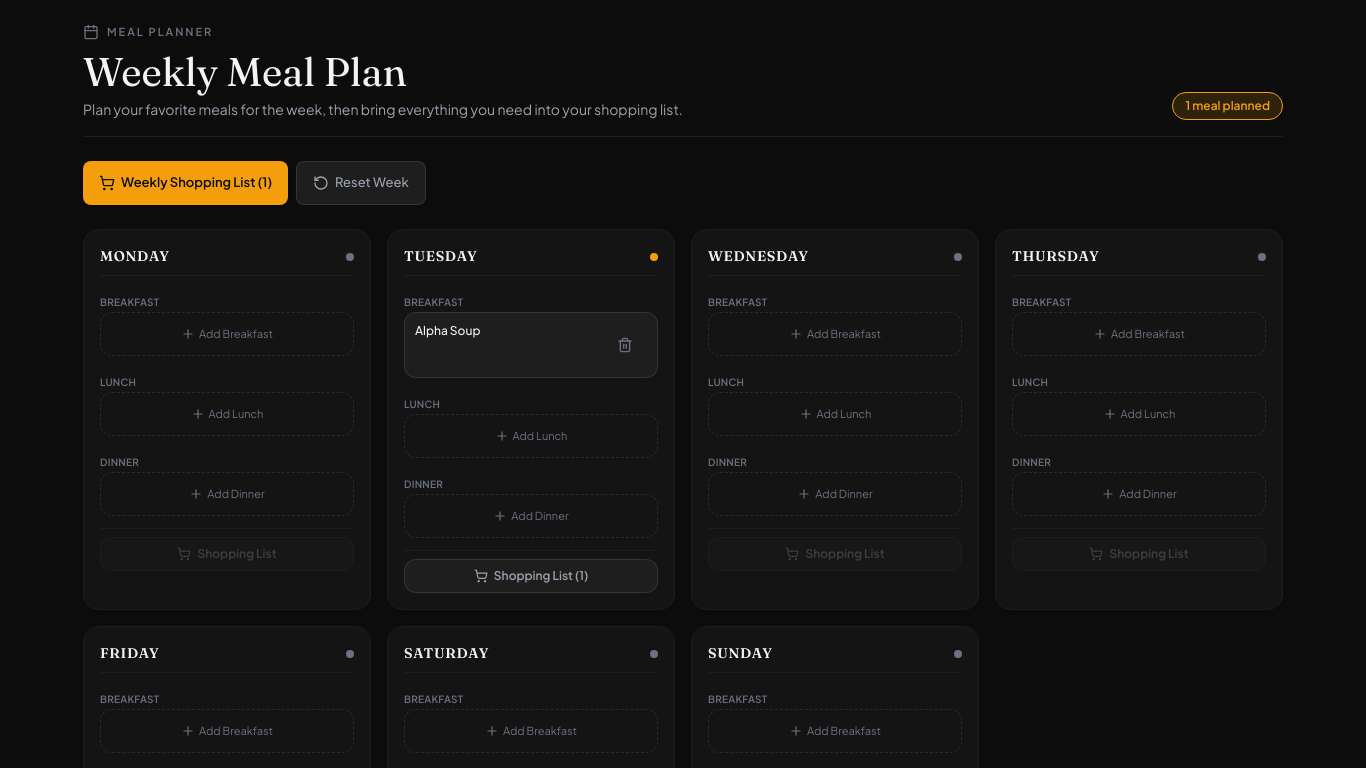
MealPlannerView › empty slot opens the recipe selector modal
This screenshot has width=1366, height=768.
What coordinates should you click on to do the following:
click the button "Add Breakfast" below "Monday"
I would click on:
 (227, 334)
Its box is [100, 312, 354, 356].
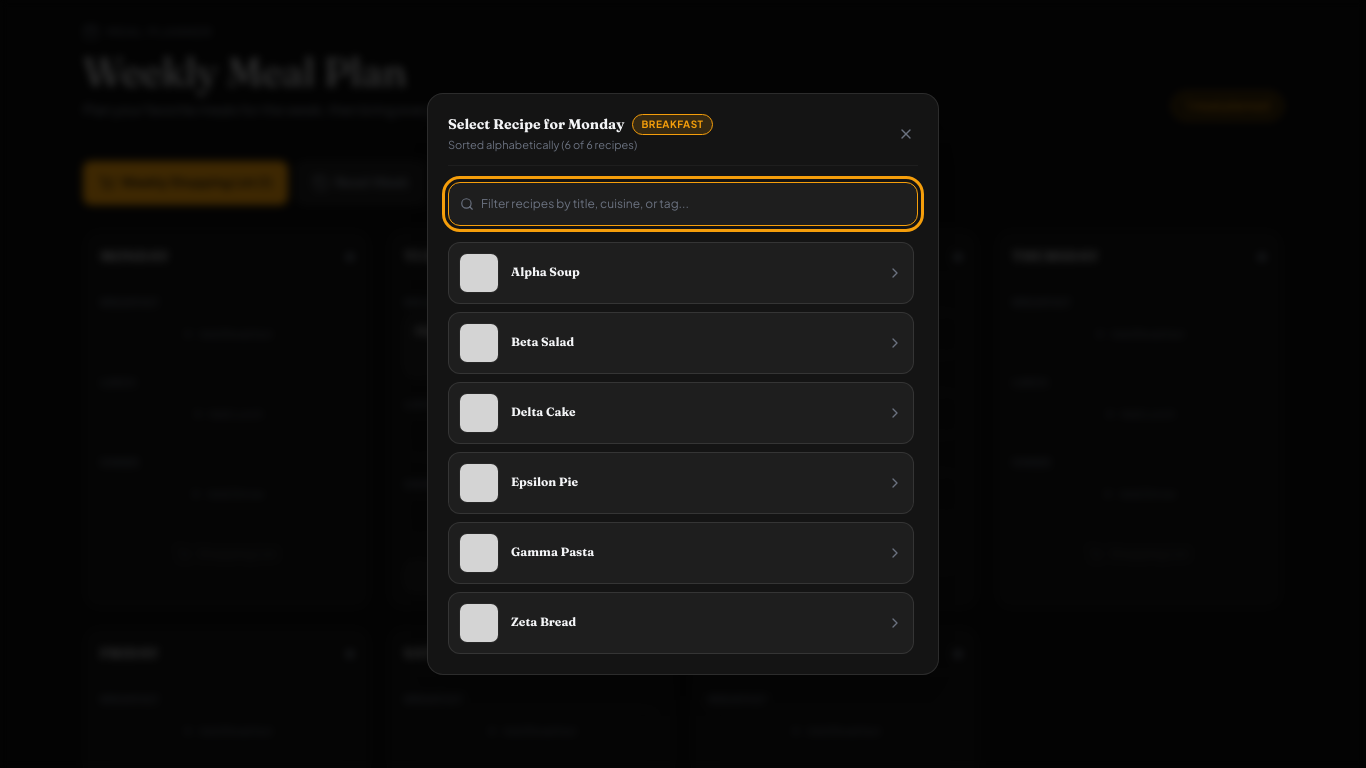
Check: the heading "Select Recipe for Monday" is shown, box [448, 114, 624, 134]
